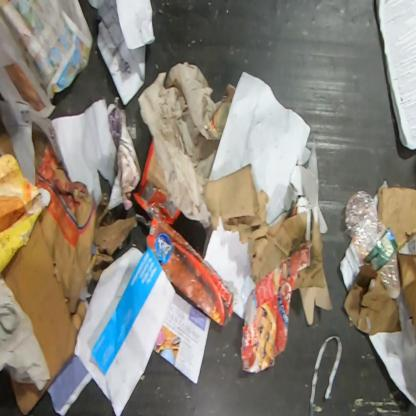cardboard: (2, 220, 78, 415), (203, 164, 309, 284), (240, 242, 312, 374), (377, 186, 415, 253)
rigid_plastic: (344, 190, 401, 299)
soft_plastic: (132, 137, 182, 225)
